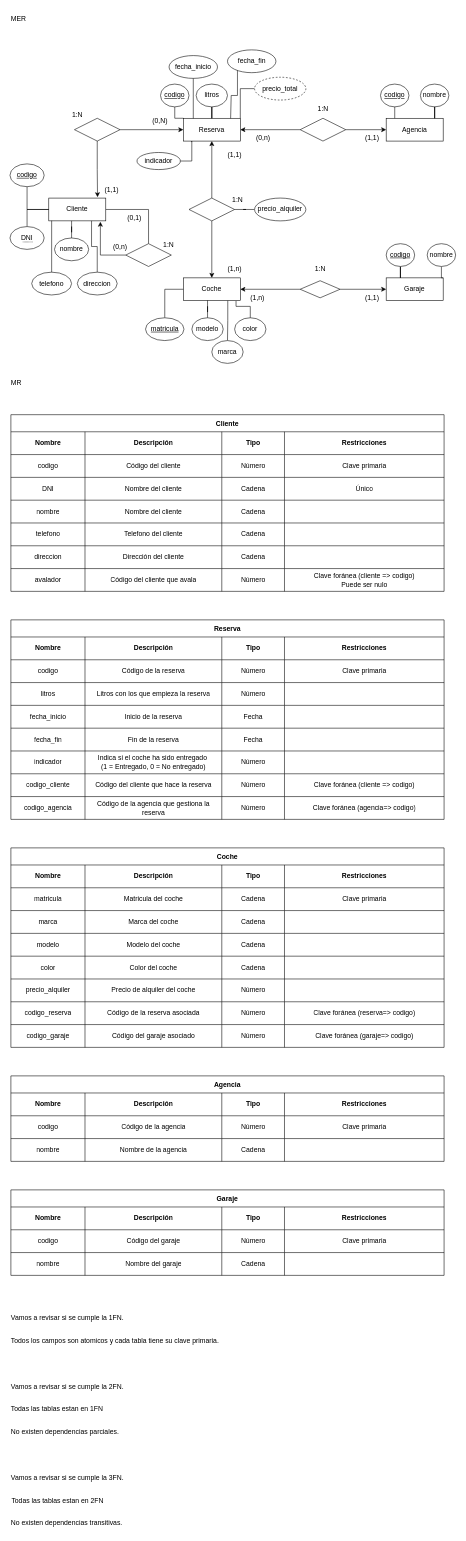
The diagram is 466 pixels wide and 1541 high, and some of its shapes have lost their labels. Each missing label, with the box of its shape:
asigna: (300, 280, 340, 298)
avala: (125, 243, 171, 266)
gestiona: (300, 118, 346, 141)
involucra: (188, 198, 235, 221)
realiza: (74, 118, 120, 141)
